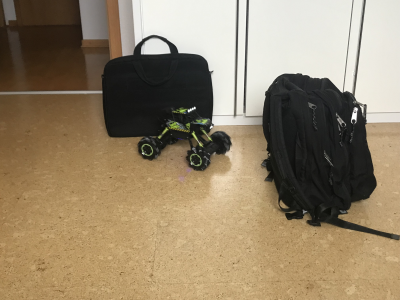remote control car: (136, 103, 235, 172)
